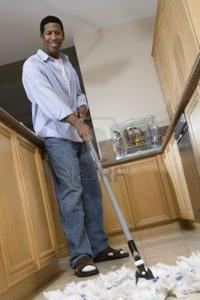person: (22, 15, 130, 278)
